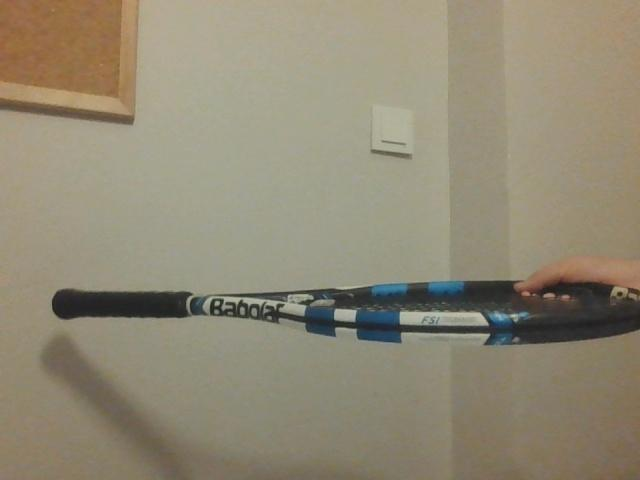Tennis-Racket: (58, 280, 640, 346)
